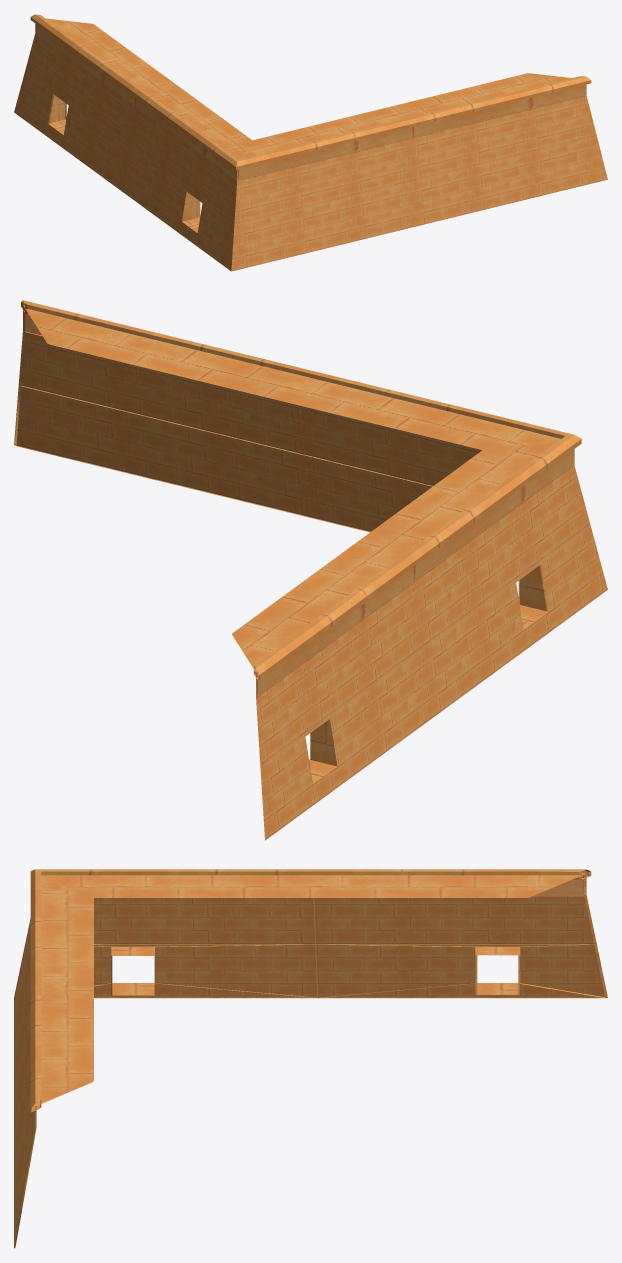
The model's file is TempleFloor01_Cut.glb.
3 views of the same model, one above another, from view 1: azimuth 30°, elevation 25°; view 2: azimuth 150°, elevation 25°; view 3: azimuth 270°, elevation 25° (orthographic). The views are drawn at different scales.
Parts seen in each view (by area): view 1: TempleFloor01_Cut; view 2: TempleFloor01_Cut; view 3: TempleFloor01_Cut.
Boxes of the visible parts, <box> form: TempleFloor01_Cut: <box>14,14,607,271</box>; TempleFloor01_Cut: <box>14,300,607,840</box>; TempleFloor01_Cut: <box>14,869,607,1248</box>.
Bounding box in the file's own units: 64.24 × 16.41 × 64.24.
Materials: 3 (3 with a texture image).
